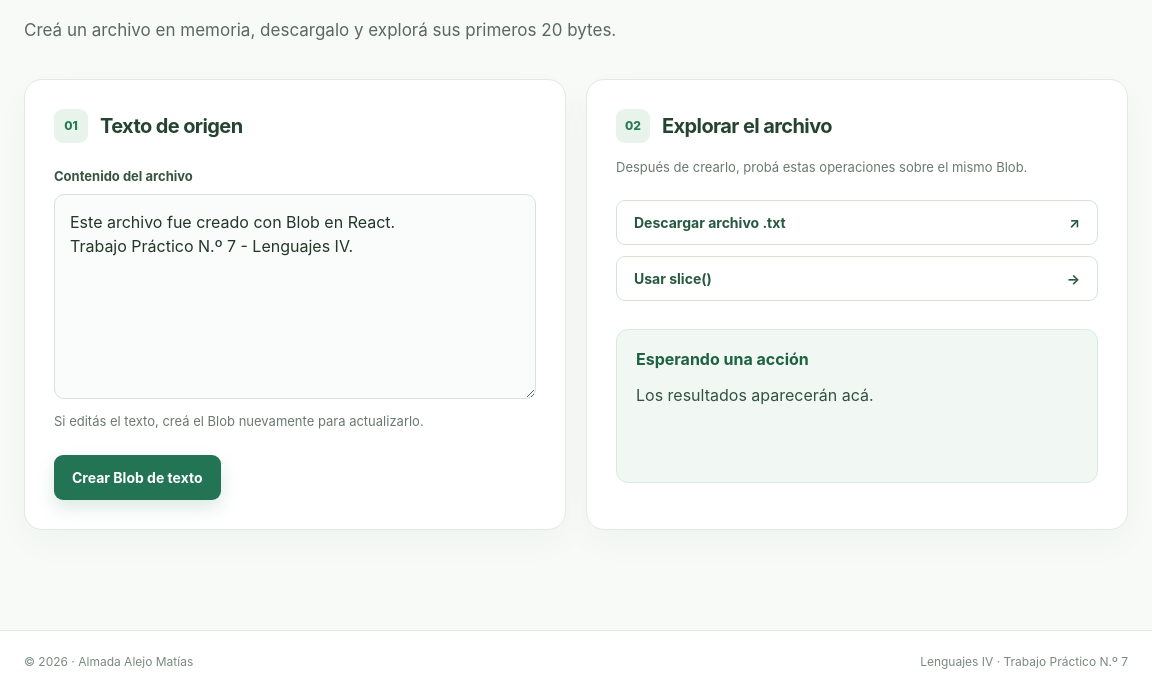
Test case: crea un Blob de texto y muestra sus datos
(page scrolled)
What coordinates should you click on to do the following:
click the button "Crear Blob de texto"
I would click on:
 (137, 477)
Its box is [54,455,220,500].
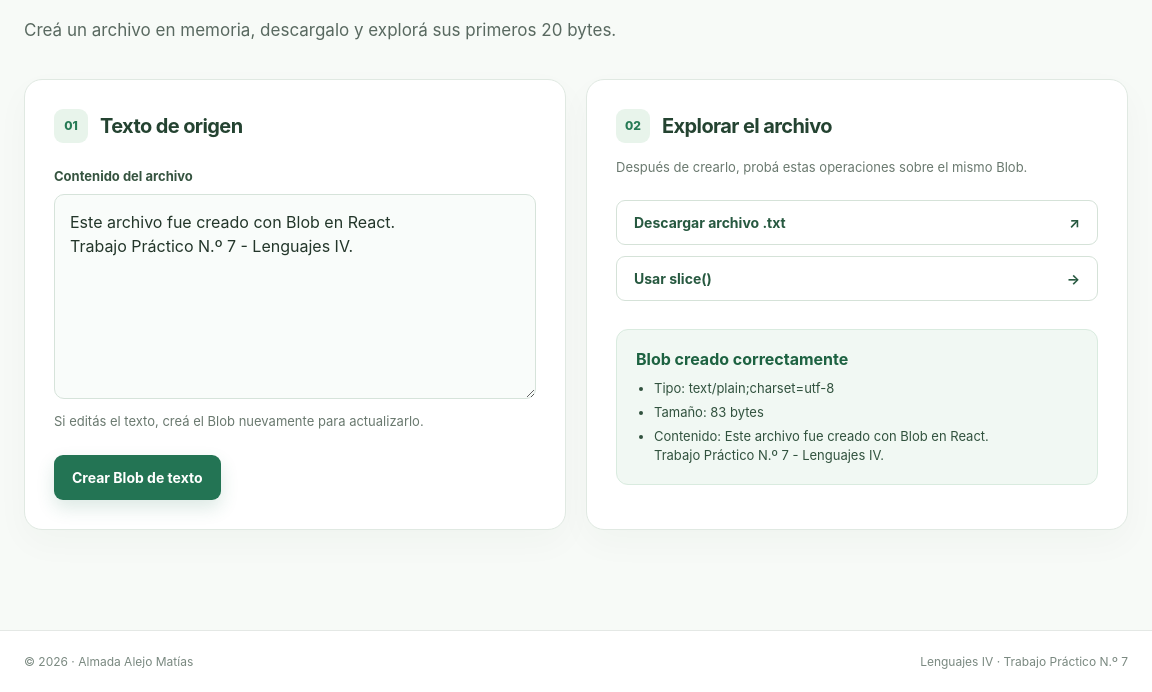
Expected: the text "Blob creado correctamente" is shown, [636,349,848,369]
Expected: the list item "Tipo: text/plain;charset=utf-8" is shown, [654,380,834,396]
Expected: the list item "Tamaño: 83 bytes" is shown, [654,404,764,420]
